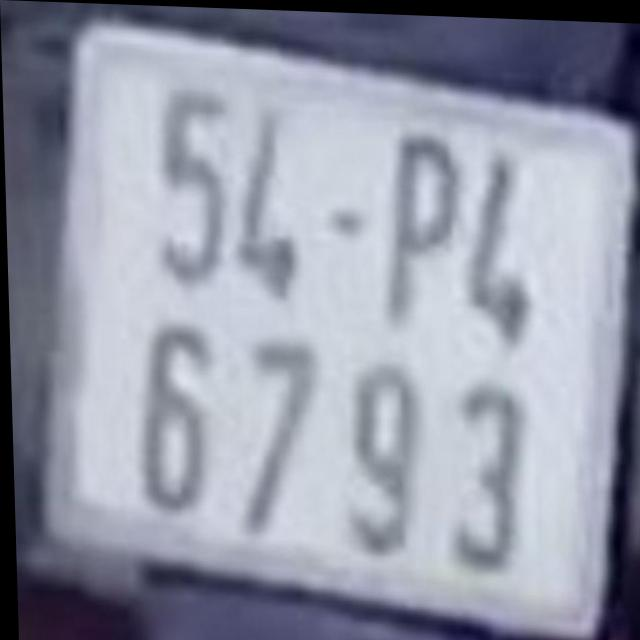3: (449, 385, 522, 577)
4: (468, 150, 537, 340), (235, 107, 297, 302)
5: (154, 84, 230, 289)
6: (134, 323, 208, 505)
7: (237, 332, 316, 545)
9: (345, 358, 417, 567)
P: (385, 124, 460, 327)
